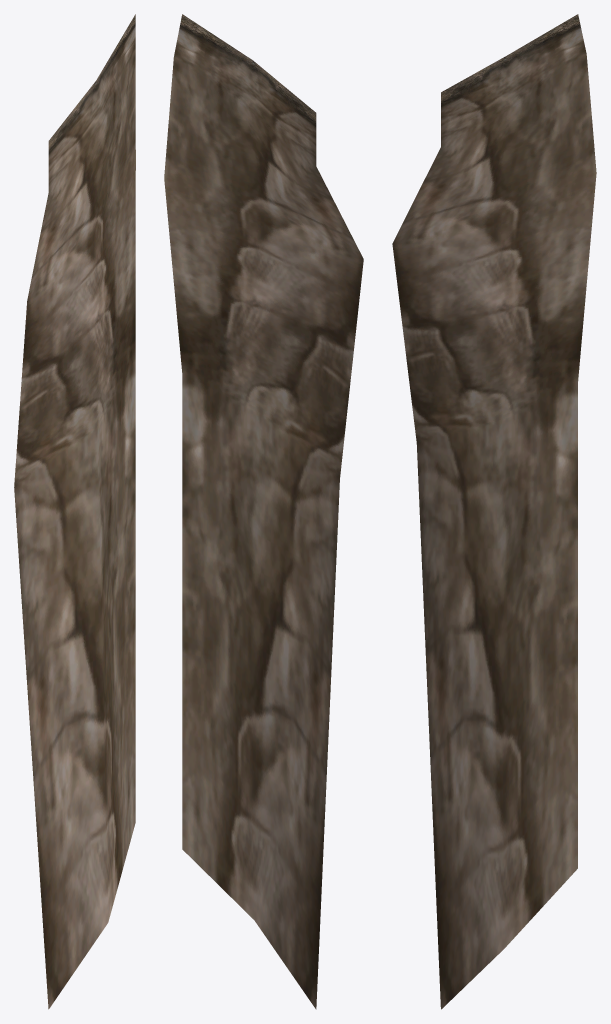
The model's file is OVERHILL_A_01_LINE130.fbx.
3 renders of one model, left to right at view 1: azimuth 30°, elevation 25°; view 2: azimuth 150°, elevation 25°; view 3: azimuth 330°, elevation 25°, orthographic. The views are drawn at different scales.
Parts seen in each view (by area): view 1: OVERHILL_A_01_LINE130; view 2: OVERHILL_A_01_LINE130; view 3: OVERHILL_A_01_LINE130.
Part boxes in pixels (bbox=[...]): OVERHILL_A_01_LINE130: bbox=[14, 14, 135, 1009]; OVERHILL_A_01_LINE130: bbox=[164, 14, 363, 1009]; OVERHILL_A_01_LINE130: bbox=[392, 14, 596, 1009].
Bounding box in the file's own units: 31139 × 187938 × 15120.
2 materials, 2 textured.
